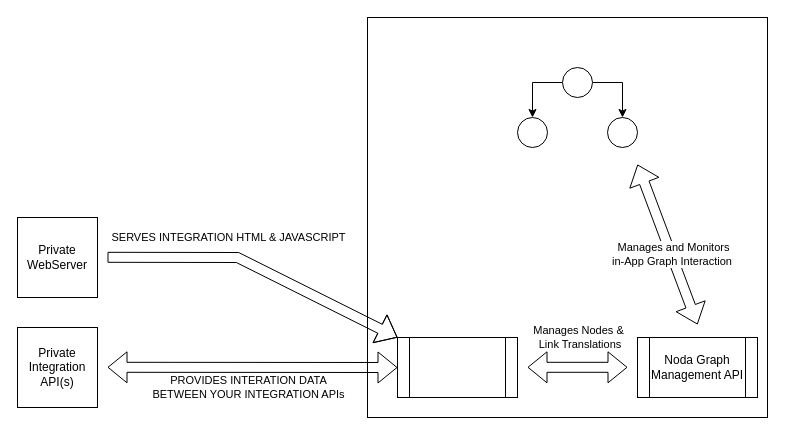
This 785x435 diagram has some shape labels left out. Here are the shapes that lost their labels. From the top down, the box of each, then its label:
(366, 16, 768, 418): Noda VR
(396, 336, 518, 398): Noda Browser & Integration Script(s)
